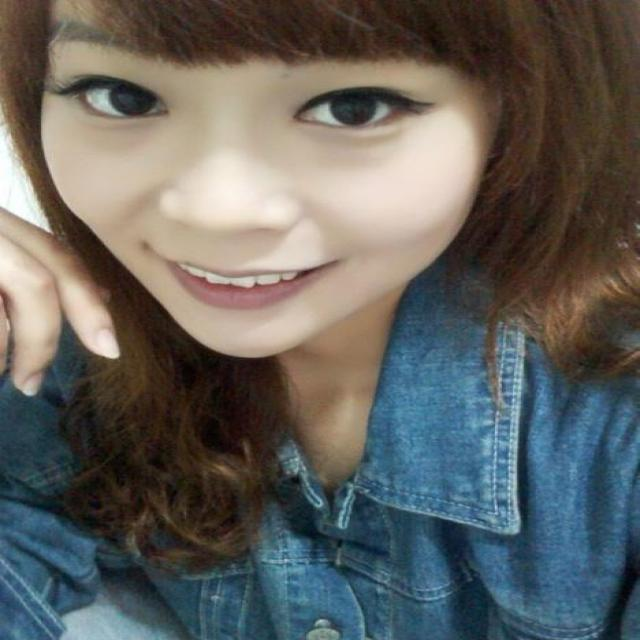long sleeve top: (3, 262, 636, 639)
